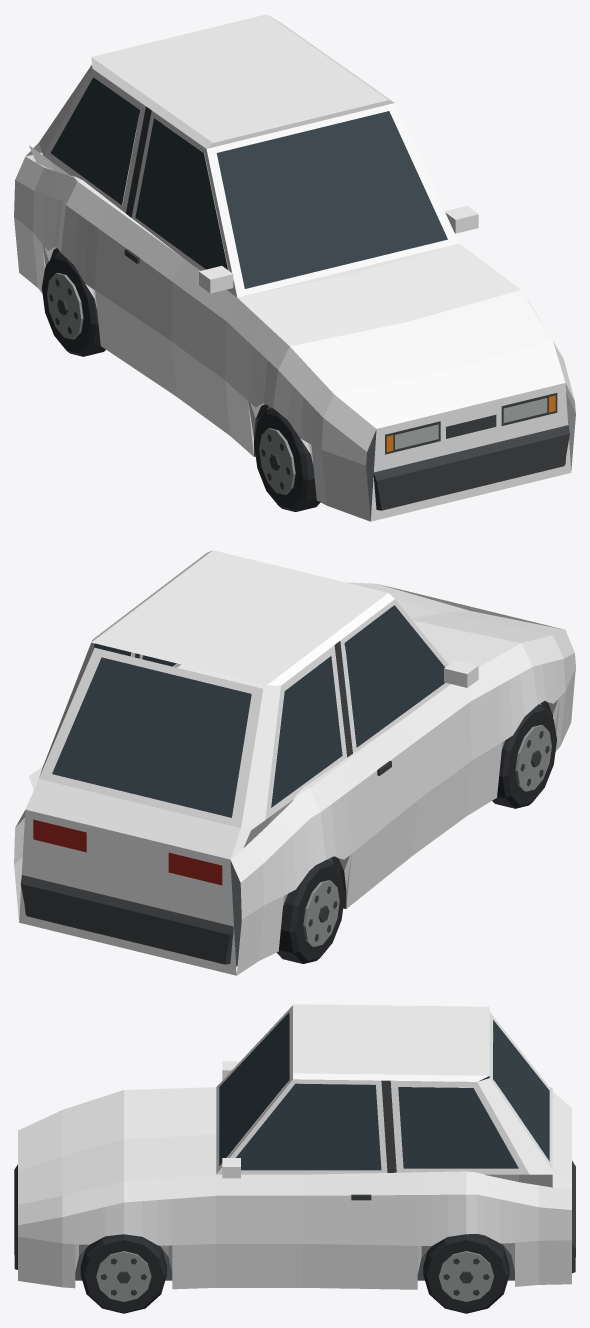
Rendered from saulieu_loriot.glb.
3 views of the same model, one above another, from view 1: azimuth 30°, elevation 25°; view 2: azimuth 150°, elevation 25°; view 3: azimuth 270°, elevation 25° (orthographic). The views are drawn at different scales.
Parts seen in each view (by area): view 1: saulieu_loriot; view 2: saulieu_loriot; view 3: saulieu_loriot.
Part boxes in pixels (left/top/right/bottom): saulieu_loriot: left=14, top=14, right=575, bottom=521; saulieu_loriot: left=14, top=550, right=575, bottom=975; saulieu_loriot: left=14, top=1004, right=575, bottom=1313.
Bounding box in the file's own units: 1.62 × 1.62 × 3.64.
8 materials, 1 textured.
